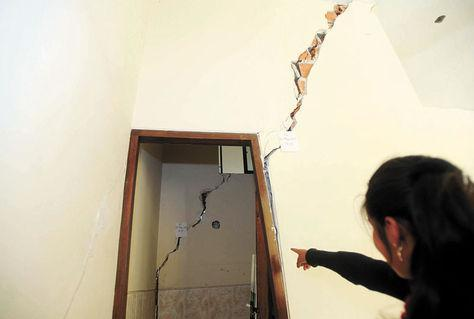spalling: (288, 31, 325, 130), (327, 5, 346, 27)
